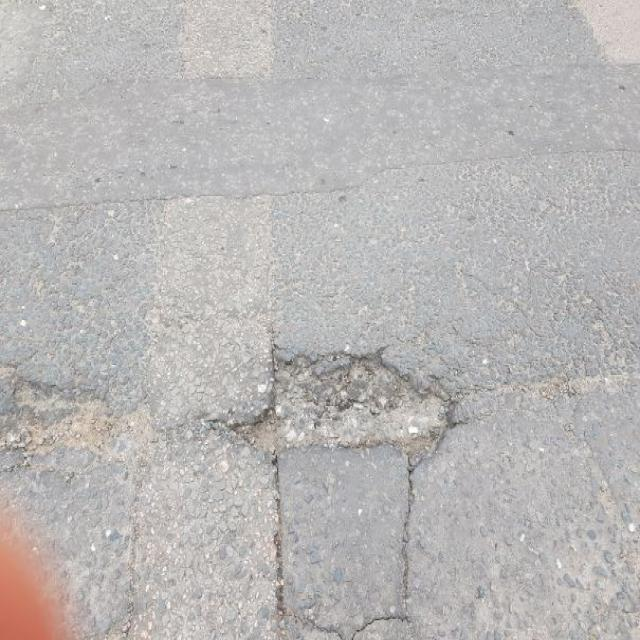pothole: (228, 339, 462, 466)
